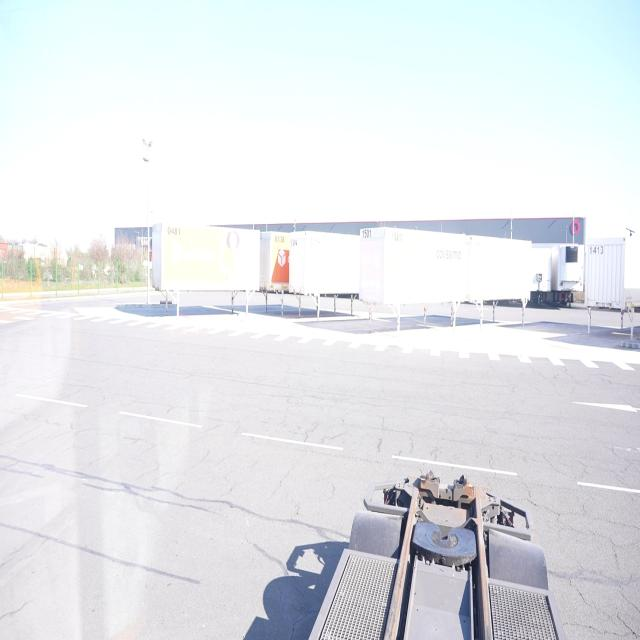Code: (587, 241, 607, 258), (270, 227, 286, 245), (165, 224, 183, 238), (358, 226, 375, 240)
